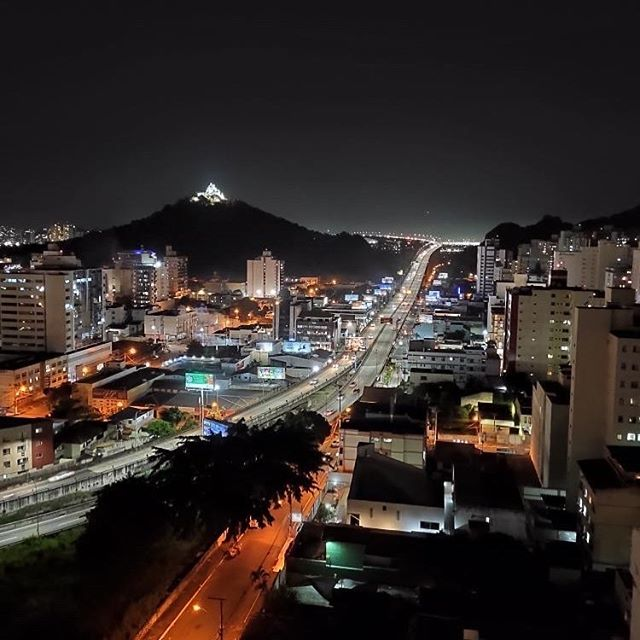building: (532, 308, 640, 494), (1, 255, 108, 398), (501, 276, 606, 384), (341, 441, 443, 552), (397, 333, 508, 395), (100, 253, 168, 328), (144, 297, 220, 339), (146, 302, 222, 344), (479, 236, 517, 304), (245, 249, 283, 317), (168, 251, 195, 296)
mountain: (96, 166, 324, 245)
sky: (1, 1, 640, 194)
street: (1, 384, 341, 537), (348, 238, 445, 388)
